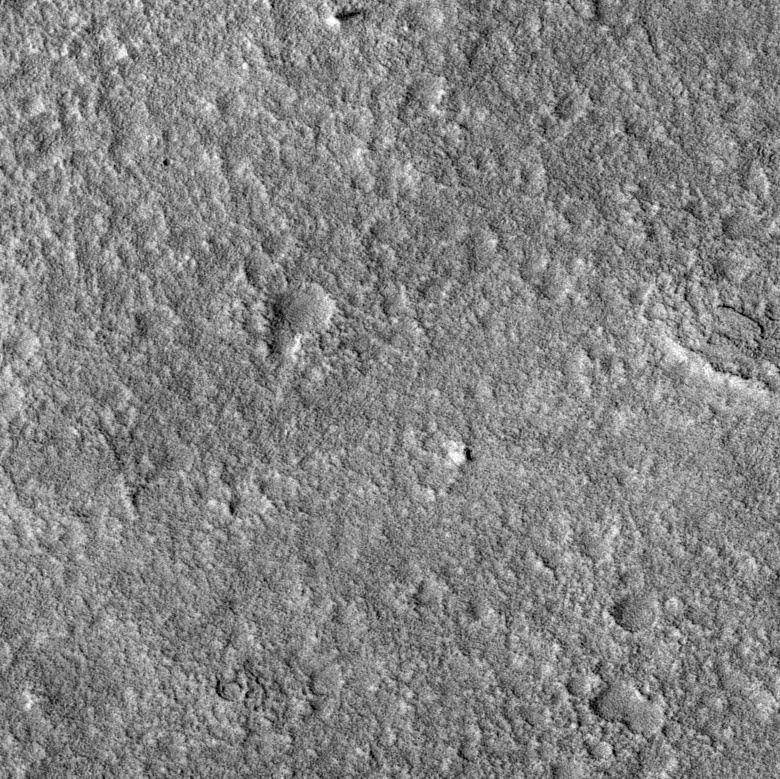dust_devil: (324, 7, 371, 28)
